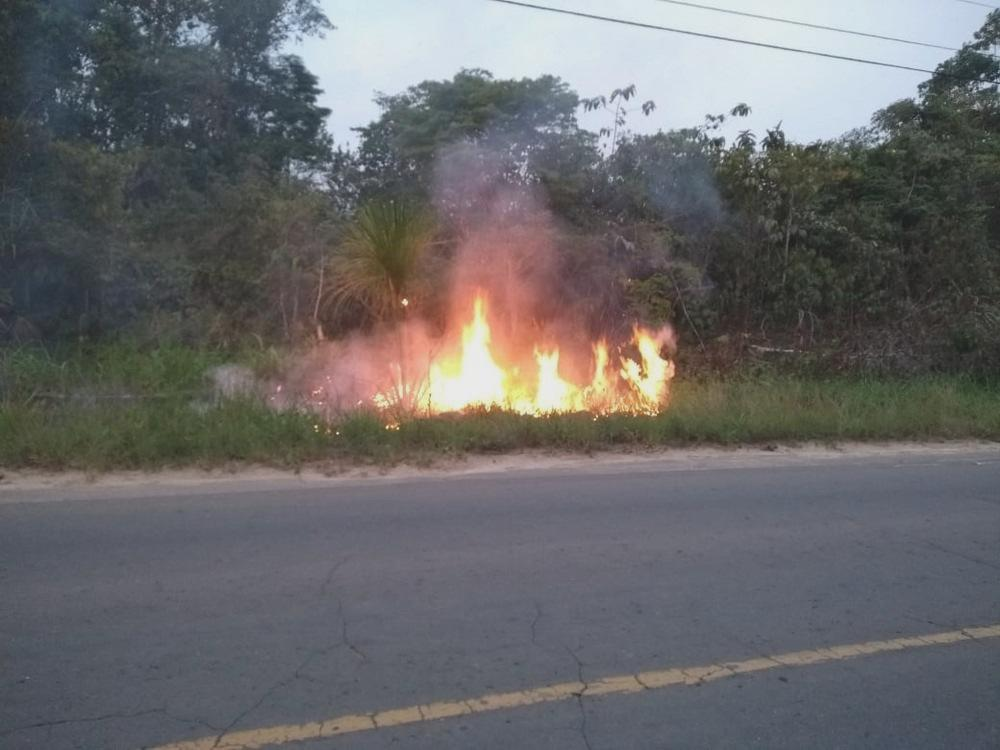Fire: (421, 282, 676, 423)
